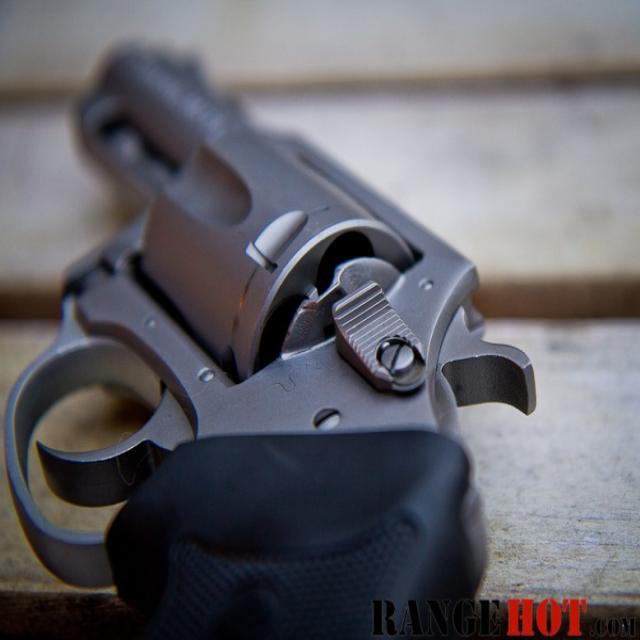Gun: (26, 1, 493, 640)
